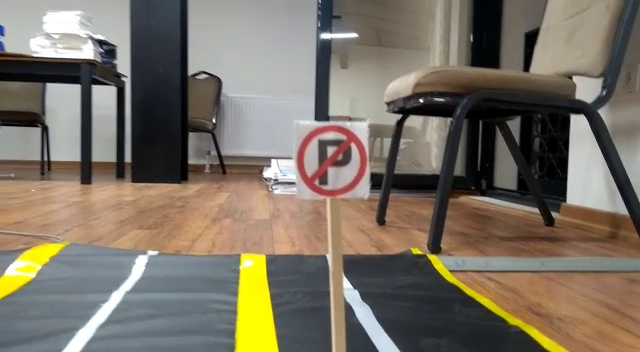park_yapilmaz: (296, 118, 367, 196)
